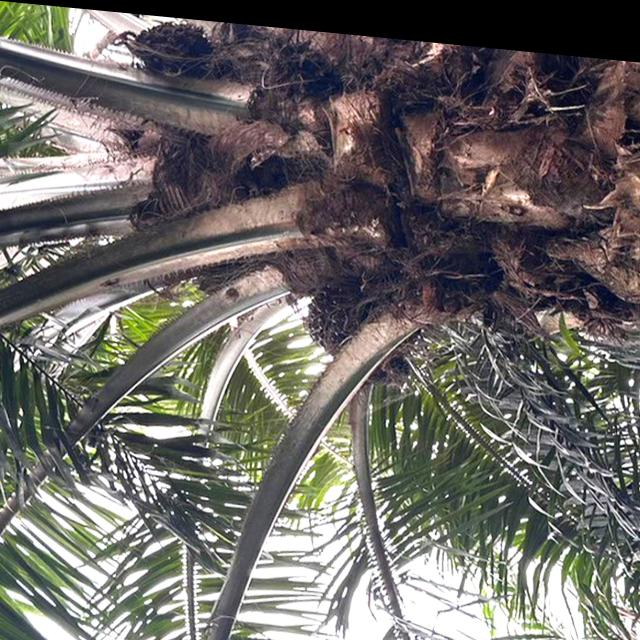almost: (294, 265, 414, 384)
